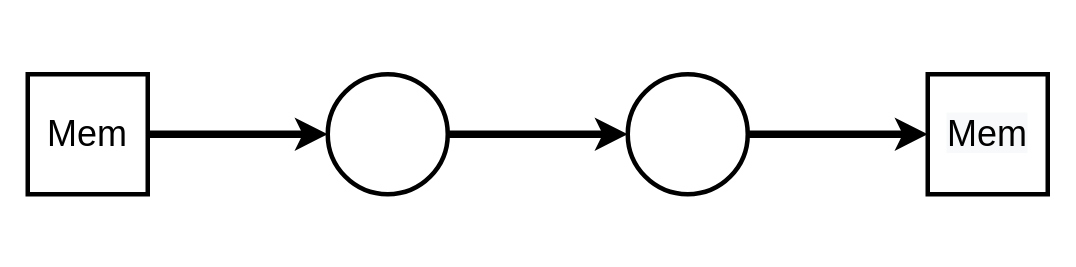
Image size: 1076x267. Some labels were removed from this diagram. Here are the shapes that lost their labels. From the top down, the centre of each, then its label:
(x=387, y=133): R2
(x=687, y=133): R1
